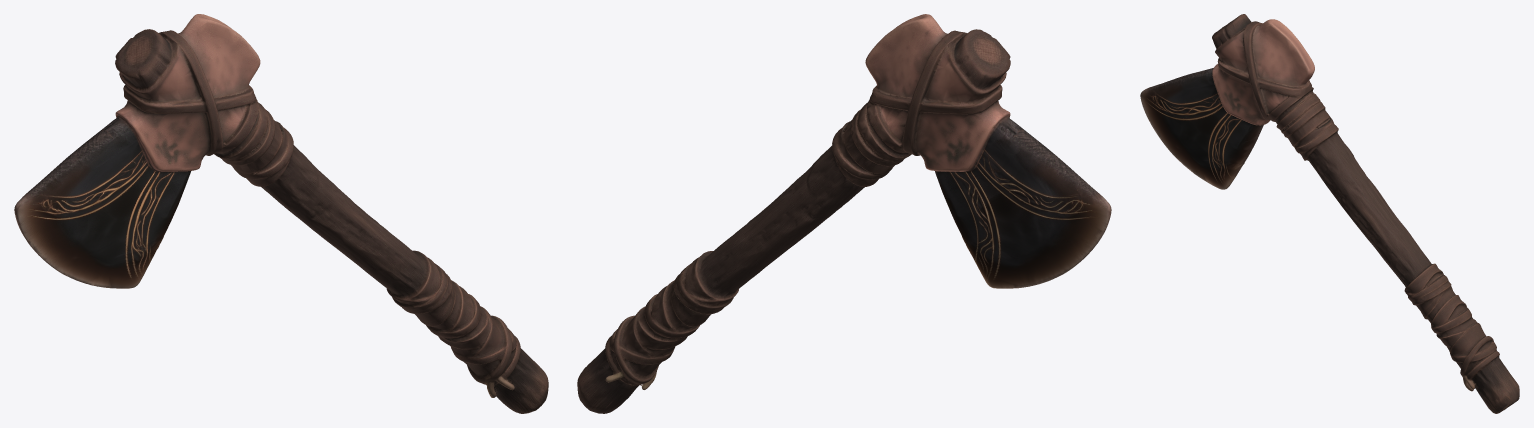
File: otzi-artifact.glb
3 renders of one model, left to right at view 1: azimuth 30°, elevation 25°; view 2: azimuth 150°, elevation 25°; view 3: azimuth 330°, elevation 25°, orthographic. The views are drawn at different scales.
Visible parts, largest first — view 1: Mesh_0; view 2: Mesh_0; view 3: Mesh_0.
Boxes of the visible parts, box(x1,y1,x2,y2) form: Mesh_0: box(14, 14, 548, 413); Mesh_0: box(577, 14, 1111, 413); Mesh_0: box(1140, 14, 1519, 413).
Size of the model in its own units: 1.91 by 1.63 by 0.2479.
1 material, 1 textured.
